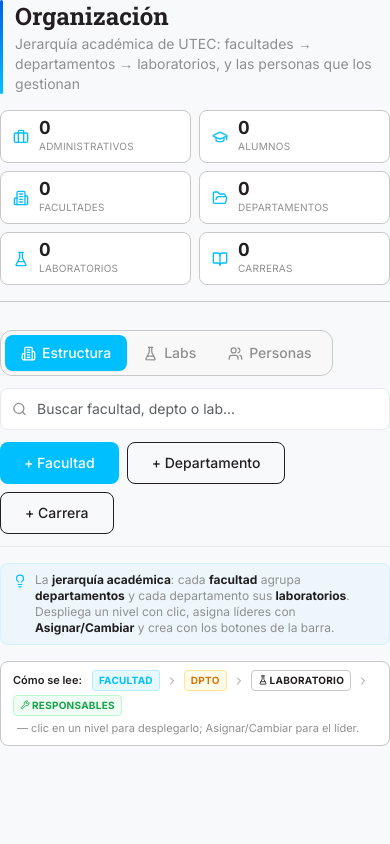
Test: OrganizacionPage › abre el modal de crear facultad
Expected: the heading "Organización" is shown, [15,0,169,32]
Click the button "+ Facultad" at (59, 463), box [0,442,119,484]
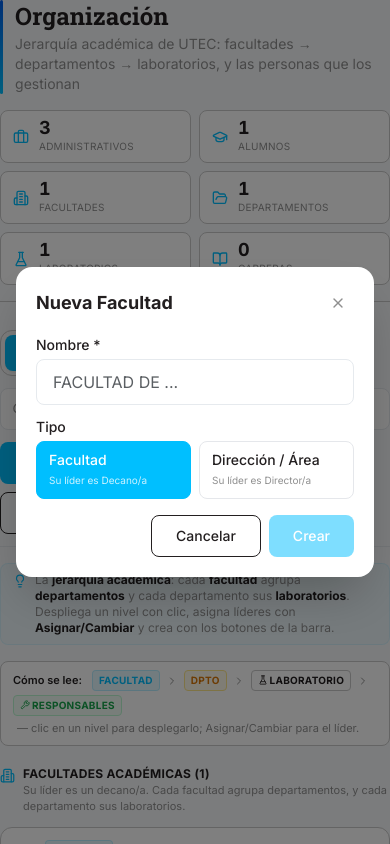
Expected: the field with placeholder "FACULTAD DE ..." is shown, [36,359,354,405]
